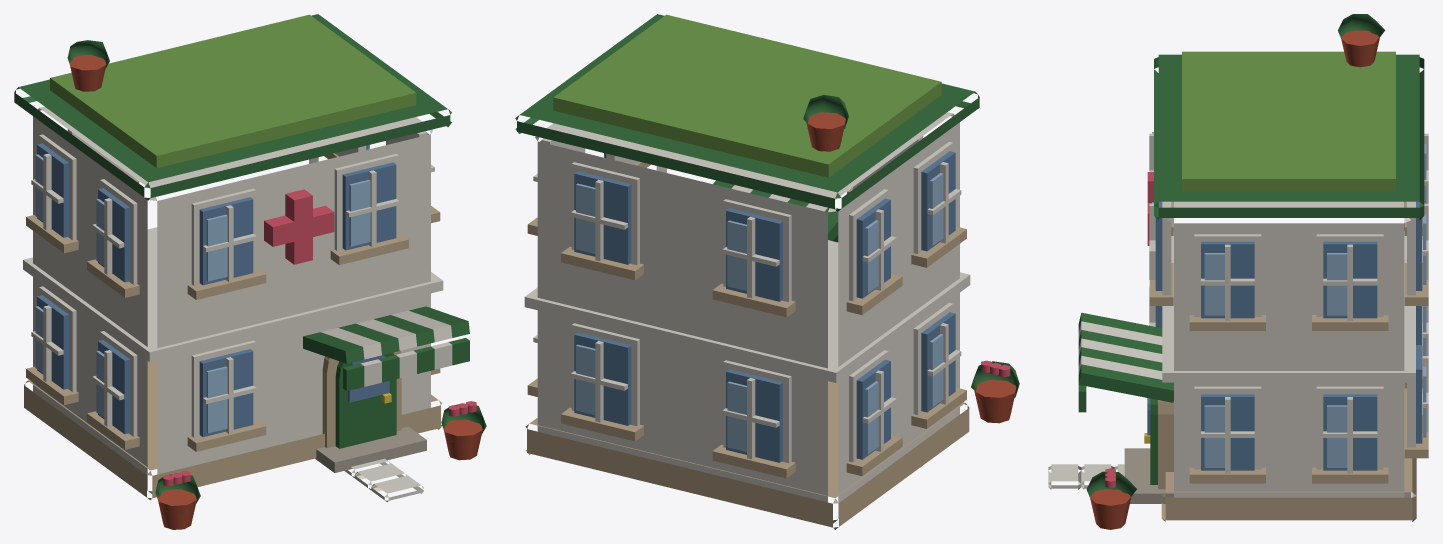
The model's file is clinic.glb.
3 views of the same model, side by side, from view 1: azimuth 30°, elevation 25°; view 2: azimuth 150°, elevation 25°; view 3: azimuth 270°, elevation 25° (orthographic). The views are drawn at different scales.
Parts seen in each view (by area): view 1: clinic; view 2: clinic; view 3: clinic.
Boxes of the visible parts, x1,y1,x2,y2 form: clinic: (14, 14, 486, 529); clinic: (515, 14, 1019, 529); clinic: (1048, 14, 1428, 529).
Bounding box in the file's own units: 0.8494 × 0.9642 × 0.86.
